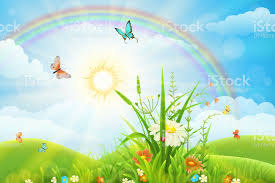mountain: (4, 138, 275, 182)
sky: (2, 1, 275, 136)
